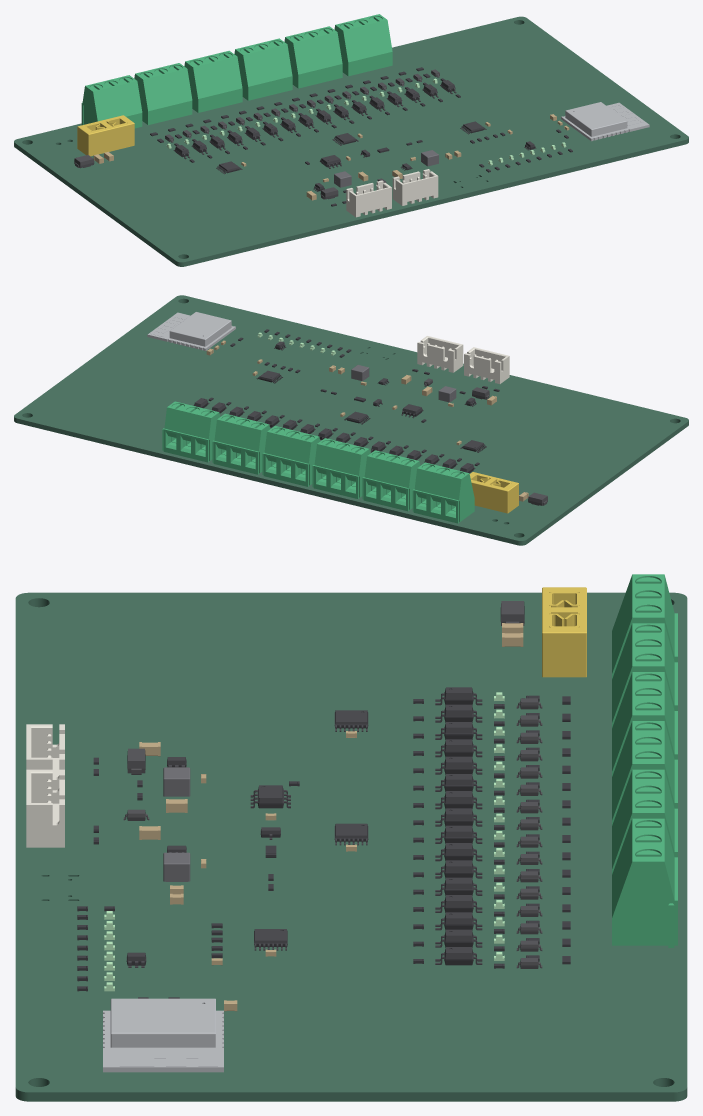
3 renders of one model, top to bottom at view 1: azimuth 30°, elevation 25°; view 2: azimuth 150°, elevation 25°; view 3: azimuth 270°, elevation 25°, orthographic. The views are drawn at different scales.
Parts seen in each view (by area): view 1: =>[0:1:1:23], J6, J5, J4, J7, J8, J3, U3, F1, JL2, JL1; view 2: =>[0:1:1:23], J3, J7, J4, J8, J5, J6, U3, F1, JL2, JL1; view 3: =>[0:1:1:23], U3, J8, F1, J7, J3, J6, J5, J4, JL2, JL1, L1 (+2 smaller).
Boxes of the visible parts, x1=… form: =>[0:1:1:23]: x1=14, y1=16, x2=688, y2=266; J6: x1=234, y1=38, x2=292, y2=100; J5: x1=184, y1=50, x2=242, y2=112; J4: x1=134, y1=63, x2=192, y2=125; J7: x1=284, y1=26, x2=342, y2=88; J8: x1=334, y1=14, x2=392, y2=76; J3: x1=81, y1=75, x2=142, y2=128; U3: x1=561, y1=102, x2=649, y2=141; F1: x1=77, y1=115, x2=134, y2=156; JL2: x1=392, y1=169, x2=438, y2=205; JL1: x1=346, y1=180, x2=391, y2=217; =>[0:1:1:23]: x1=14, y1=295, x2=688, y2=545; J3: x1=412, y1=462, x2=474, y2=523; J7: x1=212, y1=413, x2=270, y2=474; J4: x1=362, y1=450, x2=420, y2=511; J8: x1=162, y1=401, x2=220, y2=462; J5: x1=312, y1=438, x2=370, y2=498; J6: x1=262, y1=426, x2=320, y2=486; U3: x1=147, y1=312, x2=235, y2=350; F1: x1=469, y1=472, x2=518, y2=513; JL2: x1=417, y1=336, x2=463, y2=372; JL1: x1=464, y1=347, x2=509, y2=383; =>[0:1:1:23]: x1=15, y1=592, x2=687, y2=1101; U3: x1=103, y1=998, x2=223, y2=1072; J8: x1=612, y1=818, x2=677, y2=947; F1: x1=542, y1=587, x2=586, y2=677; J7: x1=612, y1=769, x2=677, y2=874; J3: x1=612, y1=574, x2=677, y2=678; J6: x1=612, y1=721, x2=677, y2=825; J5: x1=612, y1=672, x2=677, y2=776; J4: x1=612, y1=623, x2=677, y2=727; JL2: x1=26, y1=769, x2=64, y2=847; JL1: x1=26, y1=724, x2=64, y2=790; L1: x1=163, y1=767, x2=190, y2=796.
Size of the model in its own units: 17.6 by 1.73 by 10.
